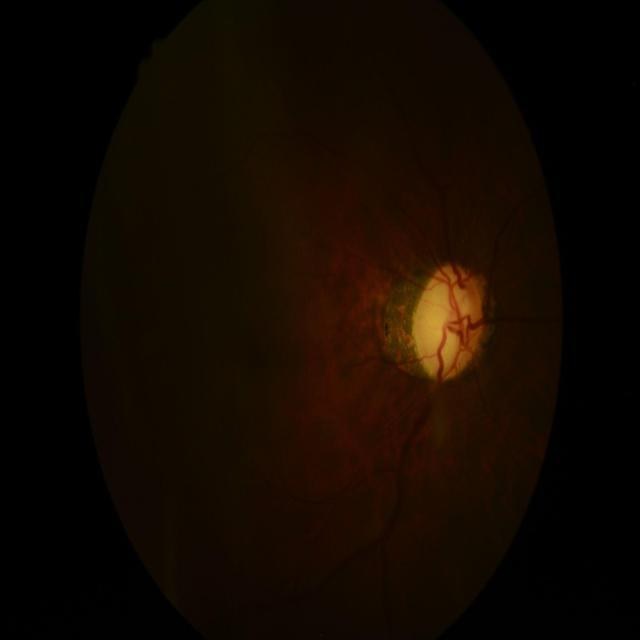cup: (425, 274, 472, 366)
disk: (411, 262, 485, 384)
